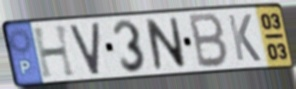3: (112, 18, 148, 75)
B: (187, 12, 230, 70)
H: (31, 23, 79, 80)
K: (225, 13, 263, 64)
N: (144, 16, 188, 72)
V: (68, 20, 102, 77)
